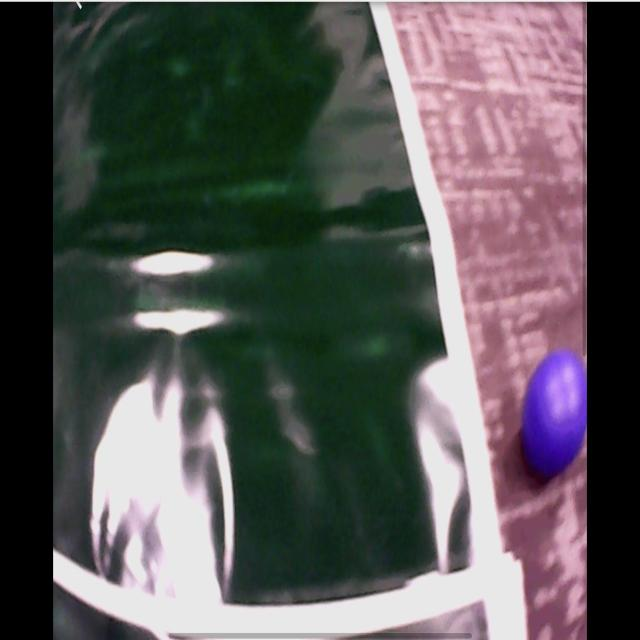ball: (523, 356, 588, 472)
